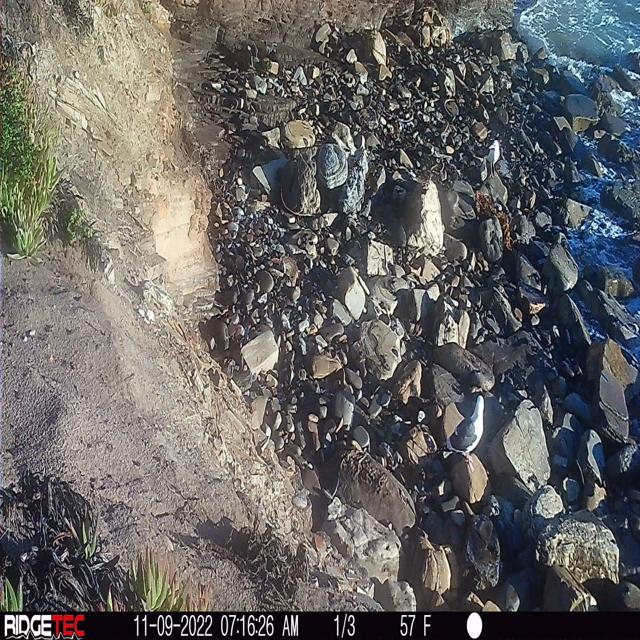bird: (447, 388, 499, 459)
